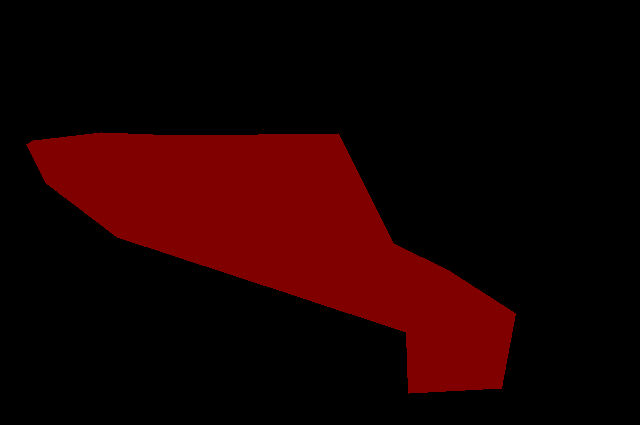fire: (26, 132, 515, 393)
